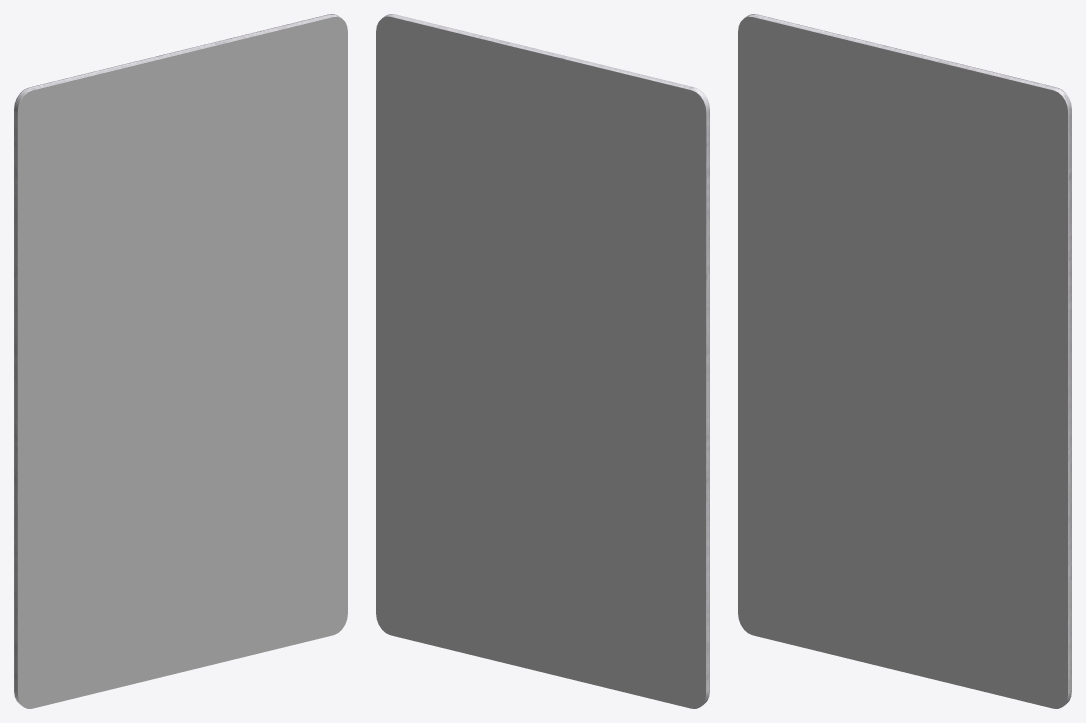
File: CardV3.fbx
3 renders of one model, left to right at view 1: azimuth 30°, elevation 25°; view 2: azimuth 150°, elevation 25°; view 3: azimuth 330°, elevation 25°, orthographic.
Parts seen in each view (by area): view 1: CardV3; view 2: CardV3; view 3: CardV3.
Part boxes in pixels (bbox=[...]): CardV3: bbox=[14, 14, 347, 708]; CardV3: bbox=[376, 14, 709, 708]; CardV3: bbox=[738, 14, 1071, 708].
Size of the model in its own units: 11.3 by 20.23 by 0.225.
